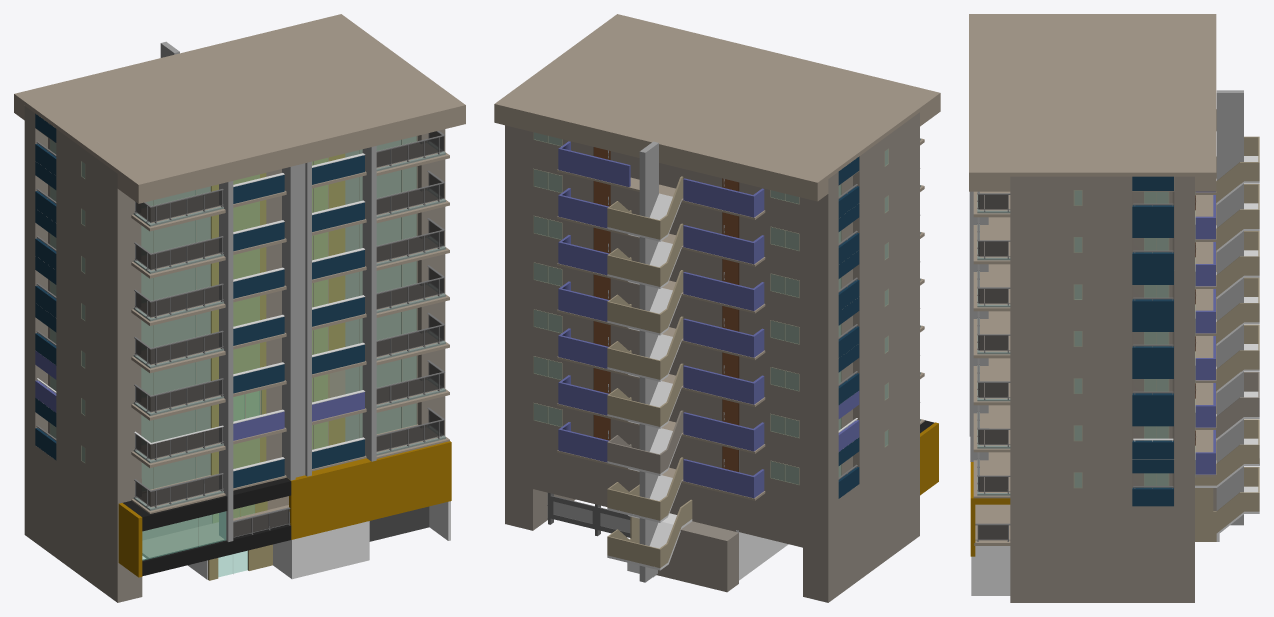
The picture shows the model from 3 angles, left to right: view 1: azimuth 30°, elevation 25°; view 2: azimuth 150°, elevation 25°; view 3: azimuth 270°, elevation 25°; orthographic projection.
Visible parts, largest first — view 1: MainStair1; view 2: MainStair1; view 3: MainStair1.
Part boxes in pixels (x1,y1,x2,y2): MainStair1: [14, 14, 465, 602]; MainStair1: [494, 14, 940, 602]; MainStair1: [969, 14, 1259, 602].
Bounding box in the file's own units: 1805 × 2313 × 1395.
